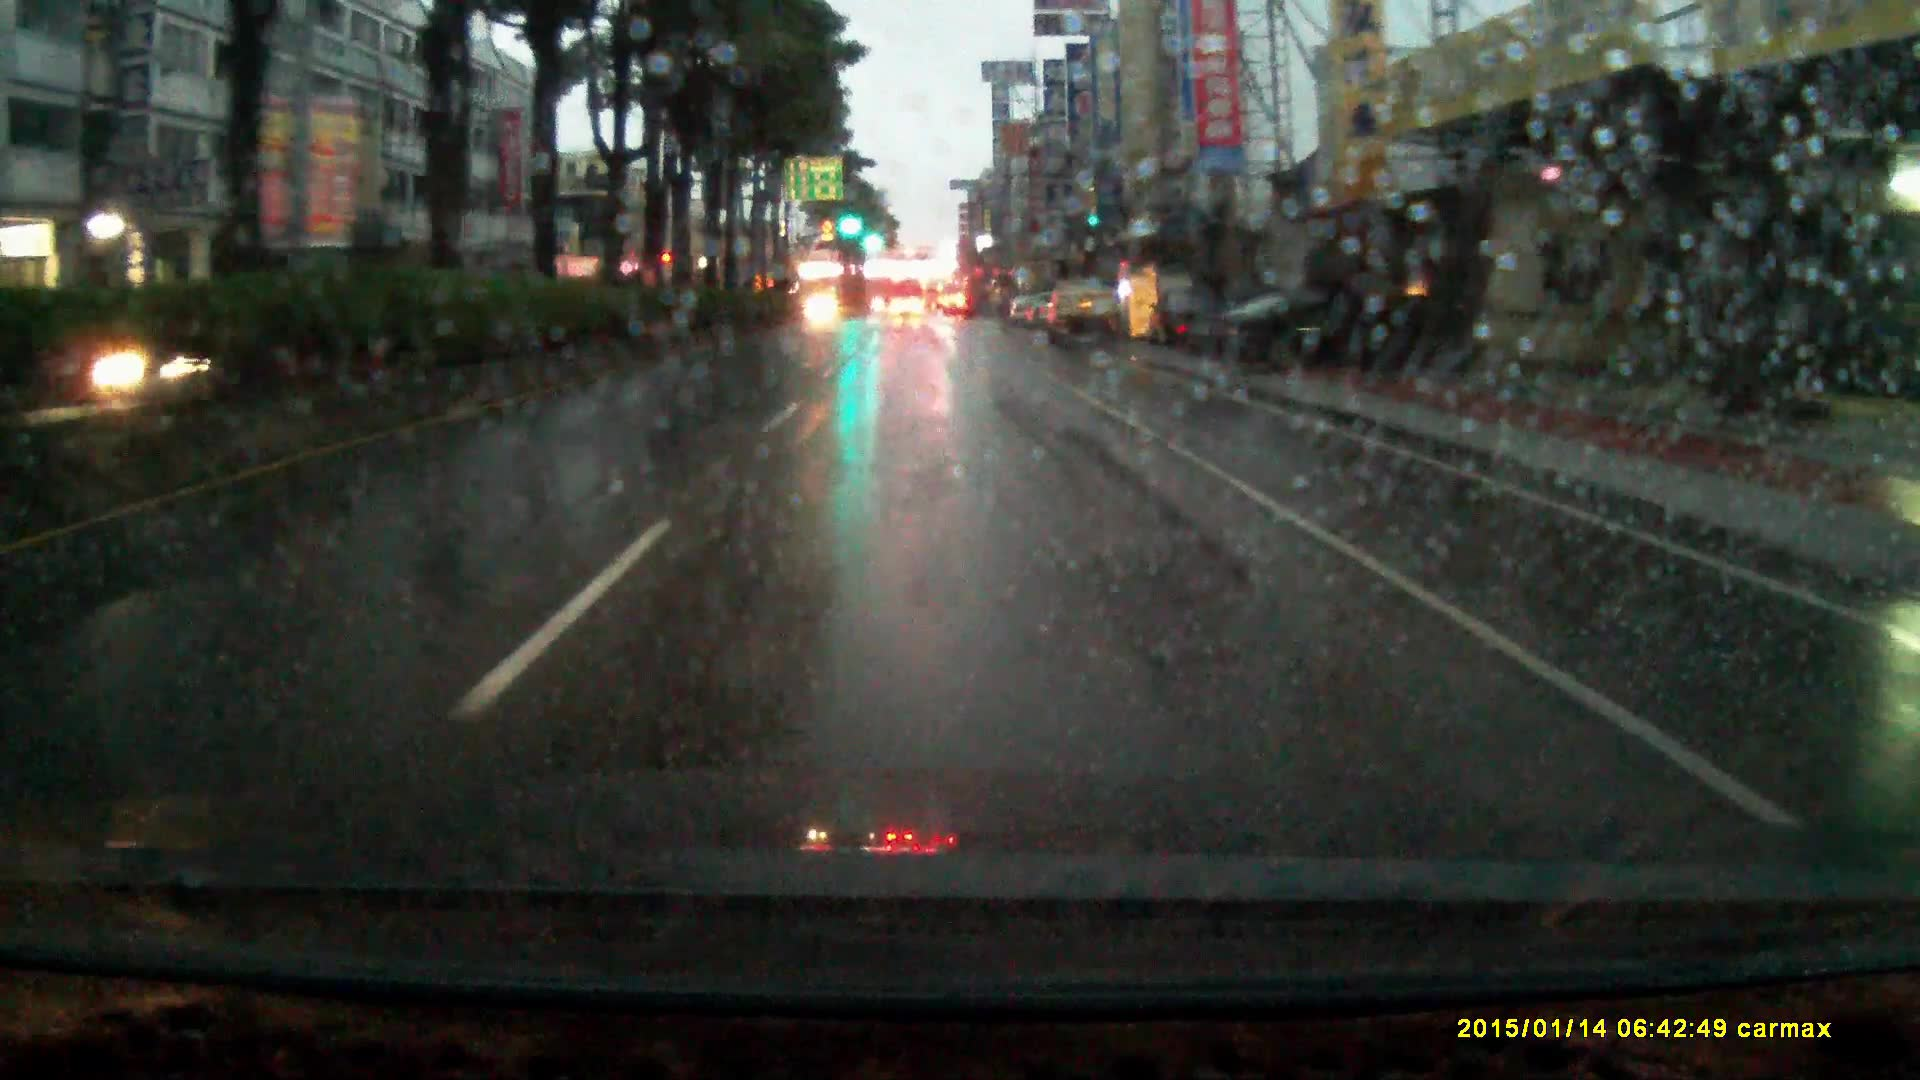vehicle: (1182, 291, 1466, 375), (1147, 293, 1222, 356), (1051, 278, 1117, 347), (804, 299, 843, 334), (889, 299, 927, 324), (923, 281, 945, 316)
